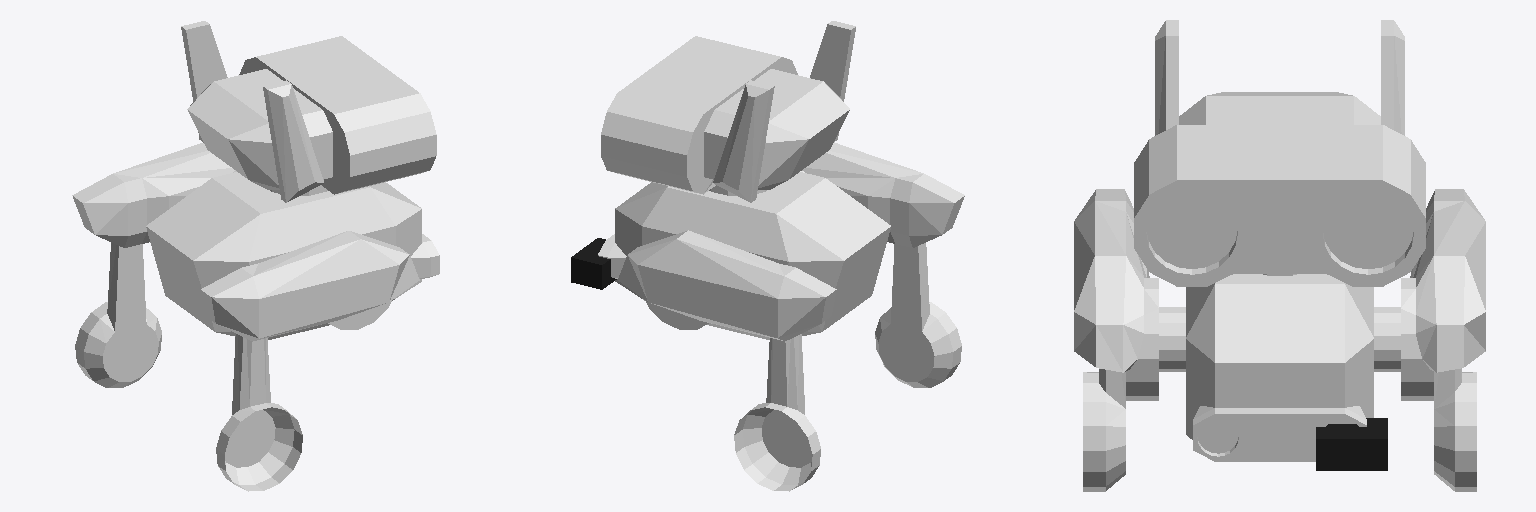
The robot description file, URDF, robot "beni":
<?xml version="1.0" encoding="utf-8"?>
<!--
  BENI — wheeled-biped balance robot for autosim.

  Geometry / meshes from Open Beni (MIT):
  https://github.com/open-beni/open-beni (assets/beni_base)

  Visual OBJ meshes are Y-up exports; origins bake the standing pose
  (L1/R1≈0.3, L2/R2≈0.5, base≈0.11 m). Autosim motion uses planar
  /cmd_vel (unicycle) with wheel_separation≈0.16 m; full RL balancing
  lives in open-beni and is optional via habitat.policy ONNX.

  Autosim additions: base_footprint, camera_link (RGB-D), imu_link,
  laser_link (nav scan mount on head).
-->
<robot name="beni">

  <material name="mat_beni">
    <color rgba="0.92 0.92 0.92 1"/>
  </material>
  <material name="dark">
    <color rgba="0.15 0.15 0.15 1"/>
  </material>

  <link name="base_footprint"/>

  <joint name="base_joint" type="fixed">
    <parent link="base_footprint"/>
    <child link="base_link"/>
    <!-- Standing height H_REF ≈ 0.11 m (wheel contact → base_link). -->
    <origin xyz="0 0 0.11" rpy="0 0 0"/>
  </joint>

  <link name="base_link">
    <inertial>
      <origin xyz="-0.026830109 -0.00097765393 -0.00069670388" rpy="0 0 0"/>
      <mass value="0.60837039"/>
      <inertia ixx="0.0005842953" ixy="4.5142416e-5" ixz="-1.617345e-5"
               iyy="0.0017198711" iyz="2.7632628e-6" izz="0.0016573369"/>
    </inertial>
    <visual>
      <origin xyz="0 0 -0.11" rpy="1.57079632679 0 0"/>
      <geometry>
        <mesh filename="meshes/VIS_base_link_00_BASE_VIS.obj"/>
      </geometry>
      <material name="mat_beni"/>
    </visual>
    <collision>
      <origin xyz="-0.005 0 0" rpy="0 0 0"/>
      <geometry>
        <box size="0.15 0.08 0.07"/>
      </geometry>
    </collision>
  </link>

  <link name="head_intermediate">
    <inertial>
      <origin xyz="0 0 0" rpy="0 0 0"/>
      <mass value="1e-9"/>
      <inertia ixx="1e-9" ixy="0" ixz="0" iyy="1e-9" iyz="0" izz="1e-9"/>
    </inertial>
  </link>

  <joint name="head_yaw_joint" type="revolute">
    <origin xyz="0 0 0" rpy="0 0 0"/>
    <parent link="base_link"/>
    <child link="head_intermediate"/>
    <axis xyz="0 0 1"/>
    <limit lower="-5.20" upper="5.20" effort="0.1" velocity="400.0"/>
  </joint>

  <link name="head">
    <inertial>
      <origin xyz="0.0057515429 -3.3763402e-5 0.030715794" rpy="0 0 0"/>
      <mass value="0.22713973"/>
      <inertia ixx="0.00021585924" ixy="-1.4175017e-7" ixz="-8.9132373e-7"
               iyy="0.00023532522" iyz="1.6379191e-7" izz="0.00035076542"/>
    </inertial>
    <visual>
      <origin xyz="0 0 -0.1469" rpy="1.57079632679 0 0"/>
      <geometry>
        <mesh filename="meshes/VIS_head_00_HEAD_VIS.obj"/>
      </geometry>
      <material name="mat_beni"/>
    </visual>
    <collision>
      <origin xyz="0 0 0.045" rpy="0 0 0"/>
      <geometry>
        <box size="0.11 0.12 0.07"/>
      </geometry>
    </collision>
  </link>

  <joint name="head_roll_joint" type="revolute">
    <origin xyz="0 0 0.0369" rpy="0 0 0"/>
    <parent link="head_intermediate"/>
    <child link="head"/>
    <axis xyz="1 0 0"/>
    <limit lower="-0.05" upper="0.05" effort="1000.0" velocity="1000.0"/>
  </joint>

  <link name="L1_Link">
    <inertial>
      <origin xyz="-0.0082306816 -0.0057820163 0.00085013488" rpy="0 0 0"/>
      <mass value="0.26100817"/>
      <inertia ixx="0.00010581644" ixy="3.2467542e-5" ixz="6.1594071e-6"
               iyy="0.00016271403" iyz="-1.2252857e-5" izz="0.00018314794"/>
    </inertial>
    <visual>
      <origin xyz="-0.0325072227328 -0.048 -0.105087013804" rpy="1.57079632679 0.3 0"/>
      <geometry>
        <mesh filename="meshes/VIS_L1_Link_00_L1_VIS.obj"/>
      </geometry>
      <material name="mat_beni"/>
    </visual>
    <collision>
      <origin xyz="-0.03 0.02 0.005" rpy="0 0 0"/>
      <geometry>
        <box size="0.13 0.03 0.05"/>
      </geometry>
    </collision>
  </link>

  <joint name="L1" type="revolute">
    <origin xyz="0 0.048 0" rpy="0 0 0"/>
    <parent link="base_link"/>
    <child link="L1_Link"/>
    <axis xyz="0 -1 0"/>
    <limit lower="-2.5307" upper="6.8940" effort="1.375" velocity="209"/>
  </joint>

  <link name="L2_Link">
    <inertial>
      <origin xyz="0.00016609656 0.0051969298 -0.062290378" rpy="0 0 0"/>
      <mass value="0.08287119"/>
      <inertia ixx="7.0858589e-5" ixy="9.7216964e-8" ixz="-5.9912454e-7"
               iyy="7.5826249e-5" iyz="8.7535112e-6" izz="1.3020969e-5"/>
    </inertial>
    <visual>
      <origin xyz="-0.0174783906666 -0.072 -0.110197525731" rpy="1.57079632679 0.8 0"/>
      <geometry>
        <mesh filename="meshes/VIS_L2_Link_00_L1_VIS.obj"/>
      </geometry>
      <material name="mat_beni"/>
    </visual>
    <collision>
      <origin xyz="0 -0.0035 -0.035" rpy="0 0 0"/>
      <geometry>
        <box size="0.015 0.01 0.065"/>
      </geometry>
    </collision>
    <collision>
      <origin xyz="0 0 -0.075" rpy="1.5707963267948966 0 0"/>
      <geometry>
        <cylinder radius="0.025" length="0.02"/>
      </geometry>
    </collision>
  </link>

  <joint name="L2" type="revolute">
    <origin xyz="-0.07 0.024 0" rpy="0 0 0"/>
    <parent link="L1_Link"/>
    <child link="L2_Link"/>
    <axis xyz="0 -1 0"/>
    <limit lower="-0.7853981633974483" upper="1.1344640137963142" effort="3.6" velocity="149"/>
  </joint>

  <link name="LW_Link">
    <inertial>
      <origin xyz="2.2944409e-5 0.01067511 0.00017766532" rpy="0 0 0"/>
      <mass value="0.076978199"/>
      <inertia ixx="2.4617683e-5" ixy="-1.6383694e-8" ixz="7.8264342e-9"
               iyy="3.9531034e-5" iyz="-1.4443679e-7" izz="2.4625466e-5"/>
    </inertial>
    <visual>
      <origin xyz="-0.0174783906667 -0.08 -0.0351975257305" rpy="1.57079632679 0.8 0"/>
      <geometry>
        <mesh filename="meshes/VIS_LW_Link_00_LW_VIS.obj"/>
      </geometry>
      <material name="dark"/>
    </visual>
    <collision>
      <origin xyz="0 0.013 0" rpy="1.5707963267948966 0 0"/>
      <geometry>
        <cylinder length="0.021" radius="0.038"/>
      </geometry>
    </collision>
  </link>

  <joint name="LW" type="continuous">
    <origin xyz="0 0.008 -0.075" rpy="0 0 0"/>
    <parent link="L2_Link"/>
    <child link="LW_Link"/>
    <axis xyz="0 -1 0"/>
    <limit effort="0.6" velocity="400"/>
  </joint>

  <link name="R1_Link">
    <inertial>
      <origin xyz="-0.0082306816 0.0057820163 0.00085013488" rpy="0 0 0"/>
      <mass value="0.26100817"/>
      <inertia ixx="0.00010581644" ixy="-3.2467542e-5" ixz="6.1594071e-6"
               iyy="0.00016271403" iyz="1.2252857e-5" izz="0.00018314794"/>
    </inertial>
    <visual>
      <origin xyz="-0.0325072227328 0.048 -0.105087013804" rpy="1.57079632679 0.3 0"/>
      <geometry>
        <mesh filename="meshes/VIS_R1_Link_00_R1_VIS.obj"/>
      </geometry>
      <material name="mat_beni"/>
    </visual>
    <collision>
      <origin xyz="-0.03 -0.02 0.005" rpy="0 0 0"/>
      <geometry>
        <box size="0.13 0.03 0.05"/>
      </geometry>
    </collision>
  </link>

  <joint name="R1" type="revolute">
    <origin xyz="0 -0.048 0" rpy="0 0 0"/>
    <parent link="base_link"/>
    <child link="R1_Link"/>
    <axis xyz="0 -1 0"/>
    <limit lower="-2.5307" upper="6.8940" effort="1.375" velocity="209"/>
  </joint>

  <link name="R2_Link">
    <inertial>
      <origin xyz="0.00016609656 -0.0051969298 -0.062290378" rpy="0 0 0"/>
      <mass value="0.08287119"/>
      <inertia ixx="7.0858589e-5" ixy="-9.7216964e-8" ixz="-5.9912454e-7"
               iyy="7.5826249e-5" iyz="-8.7535112e-6" izz="1.3020969e-5"/>
    </inertial>
    <visual>
      <origin xyz="-0.0174783906666 0.072 -0.110197525731" rpy="1.57079632679 0.8 0"/>
      <geometry>
        <mesh filename="meshes/VIS_R2_Link_00_R2_VIS.obj"/>
      </geometry>
      <material name="mat_beni"/>
    </visual>
    <collision>
      <origin xyz="0 0.0035 -0.035" rpy="0 0 0"/>
      <geometry>
        <box size="0.015 0.01 0.065"/>
      </geometry>
    </collision>
    <collision>
      <origin xyz="0 0 -0.075" rpy="1.5707963267948966 0 0"/>
      <geometry>
        <cylinder radius="0.025" length="0.02"/>
      </geometry>
    </collision>
  </link>

  <joint name="R2" type="revolute">
    <origin xyz="-0.07 -0.024 0" rpy="0 0 0"/>
    <parent link="R1_Link"/>
    <child link="R2_Link"/>
    <axis xyz="0 -1 0"/>
    <limit lower="-0.7853981633974483" upper="1.1344640137963142" effort="3.6" velocity="149"/>
  </joint>

  <link name="RW_Link">
    <inertial>
      <origin xyz="2.2944409e-5 -0.01067511 0.00017766532" rpy="0 0 0"/>
      <mass value="0.076978199"/>
      <inertia ixx="2.4617683e-5" ixy="1.6383694e-8" ixz="7.8264342e-9"
               iyy="3.9531034e-5" iyz="1.4443679e-7" izz="2.4625466e-5"/>
    </inertial>
    <visual>
      <origin xyz="-0.0174783906667 0.08 -0.0351975257305" rpy="1.57079632679 0.8 0"/>
      <geometry>
        <mesh filename="meshes/VIS_RW_Link_00_RW_VIS.obj"/>
      </geometry>
      <material name="dark"/>
    </visual>
    <collision>
      <origin xyz="0 -0.013 0" rpy="1.5707963267948966 0 0"/>
      <geometry>
        <cylinder length="0.021" radius="0.038"/>
      </geometry>
    </collision>
  </link>

  <joint name="RW" type="continuous">
    <origin xyz="0 -0.008 -0.075" rpy="0 0 0"/>
    <parent link="R2_Link"/>
    <child link="RW_Link"/>
    <axis xyz="0 -1 0"/>
    <limit effort="0.6" velocity="400"/>
  </joint>

  <!-- Autosim sensors (Open Beni MJCF depth_front / imu_site). -->
  <link name="imu_link">
    <inertial>
      <mass value="0.001"/>
      <inertia ixx="1e-7" ixy="0" ixz="0" iyy="1e-7" iyz="0" izz="1e-7"/>
    </inertial>
  </link>

  <joint name="imu_joint" type="fixed">
    <parent link="base_link"/>
    <child link="imu_link"/>
    <origin xyz="0 0 0" rpy="0 0 0"/>
  </joint>

  <!-- MJCF depth_front: pos=(0.07, 0.03, -0.016), ~86.5° VFOV @ 80×60. -->
  <link name="camera_link">
    <visual>
      <origin xyz="0 0 0" rpy="0 0 0"/>
      <geometry>
        <box size="0.02 0.03 0.015"/>
      </geometry>
      <material name="dark"/>
    </visual>
    <collision>
      <origin xyz="0 0 0" rpy="0 0 0"/>
      <geometry>
        <box size="0.02 0.03 0.015"/>
      </geometry>
    </collision>
    <inertial>
      <mass value="0.02"/>
      <inertia ixx="1e-5" ixy="0" ixz="0" iyy="1e-5" iyz="0" izz="1e-5"/>
    </inertial>
  </link>

  <joint name="camera_joint" type="fixed">
    <parent link="base_link"/>
    <child link="camera_link"/>
    <origin xyz="0.07 0.03 -0.016" rpy="0 0 0"/>
  </joint>

  <!-- Nav 2D scan mount (not in Open Beni; height ≈ head). -->
  <link name="base_scan"/>
  <link name="laser_link"/>

  <joint name="scan_joint" type="fixed">
    <parent link="base_link"/>
    <child link="base_scan"/>
    <origin xyz="0.05 0 0.08" rpy="0 0 0"/>
  </joint>

  <joint name="laser_joint" type="fixed">
    <parent link="base_scan"/>
    <child link="laser_link"/>
    <origin xyz="0 0 0" rpy="0 0 0"/>
  </joint>

</robot>

--- Facts derived from the render (not from the file) ---
3 views of the same robot in one strip: view 1: azimuth 30°, elevation 25°; view 2: azimuth 150°, elevation 25°; view 3: azimuth 270°, elevation 25° (orthographic).
Model beni with 14 links and 13 joints (6 revolute, 2 continuous, 5 fixed), rooted at base_footprint, posed every joint at zero.
Links seen in each view (by area): view 1: head, base_link, R1_Link, R2_Link, L1_Link, L2_Link; view 2: head, base_link, L1_Link, L2_Link, R1_Link, R2_Link, camera_link; view 3: head, base_link, L1_Link, R1_Link, R2_Link, L2_Link, camera_link.
Link boxes in pixels (x1,y1,x2,y2): head: (181, 21, 436, 202); base_link: (146, 172, 439, 339); R1_Link: (201, 231, 419, 341); R2_Link: (216, 334, 302, 491); L1_Link: (72, 143, 236, 247); L2_Link: (75, 243, 161, 387); head: (601, 21, 855, 202); base_link: (598, 172, 890, 339); L1_Link: (618, 230, 836, 340); L2_Link: (734, 334, 820, 491); R1_Link: (800, 142, 964, 247); R2_Link: (875, 243, 961, 387); camera_link: (571, 238, 616, 289); head: (1134, 20, 1425, 286); base_link: (1186, 274, 1373, 461); L1_Link: (1374, 189, 1485, 400); R1_Link: (1074, 189, 1185, 400); R2_Link: (1083, 369, 1125, 491); L2_Link: (1434, 368, 1476, 491); camera_link: (1316, 418, 1387, 470).
Bounding box of the posed robot: 0.1801 × 0.1715 × 0.2241 m (x, y, z).
Meshes: 8 distinct files referenced, 6 mesh visuals loaded (6 OBJ); not drawn: 2 (reference not matched to a file when rendering).
